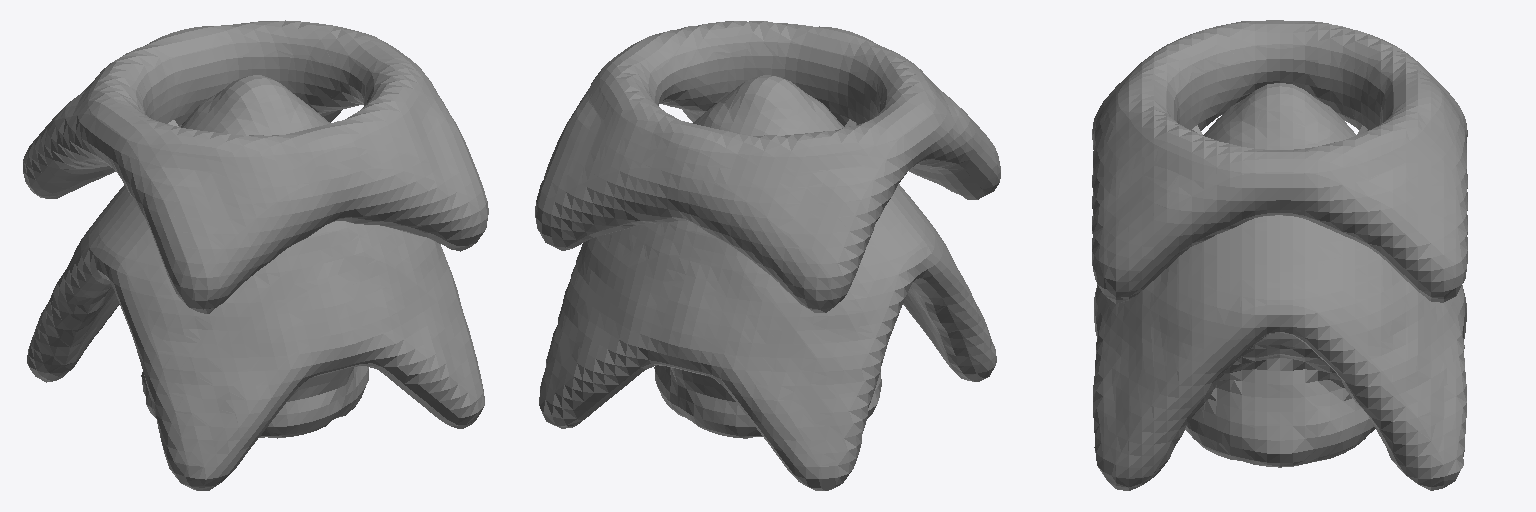
URDF robot description (cube.urdf):
<?xml version="0.0" ?> 
<robot name="cube.urdf"> 
<link name="legobrick"> 
<contact> 
<lateral_friction value="5.0"/> 
<rolling_friction value="0.0"/> 
<contact_cfm value="0.0"/> 
<contact_erp value="1.0"/> 
</contact> 
<inertial> 
<origin rpy="0 0 0" xyz="0.0 0.0 0.0"/> 
<mass value=".01"/> 
<inertia ixx="1" ixy="0" ixz="0" iyy="1" iyz="0" izz="1"/> 
</inertial> 
<visual> 
<origin rpy="1.570796 0 0" xyz="-0.02595327640174078 0.025959915645824547 -0.027292622321593595"/> 
<geometry> 
<mesh filename="L12_3.obj" scale="0.0006959277562903967 0.0006959277562903967 0.0006959277562903967"/> 
</geometry> 
<material name="yellow"> 
<color rgba="0.6 0.6 0.6 1"/> 
</material> 
</visual> 
<collision> 
<origin rpy="1.570796 0 0" xyz="-0.02595327640174078 0.025959915645824547 -0.027292622321593595"/> 
<geometry> 
<mesh filename="L12_3.obj" scale="0.0006959277562903967 0.0006959277562903967 0.0006959277562903967"/> 
</geometry> 
</collision> 
</link> 
</robot>

--- What the picture shows (computed from the rendered views, not written in the file) ---
The picture shows the robot from 3 angles, left to right: view 1: azimuth 30°, elevation 25°; view 2: azimuth 150°, elevation 25°; view 3: azimuth 270°, elevation 25°; orthographic projection.
Model cube.urdf with 1 links and 0 joints (none), rooted at legobrick, posed every joint at zero.
Visible links, largest first — view 1: legobrick; view 2: legobrick; view 3: legobrick.
Boxes of the visible links, x1,y1,x2,y2 form: legobrick: (23, 20, 488, 490); legobrick: (535, 21, 1000, 490); legobrick: (1092, 20, 1467, 490).
Size in the robot's own frame: 0.056 by 0.056 by 0.0557 metres.
1 mesh visuals loaded from 1 distinct referenced files (1 OBJ).
